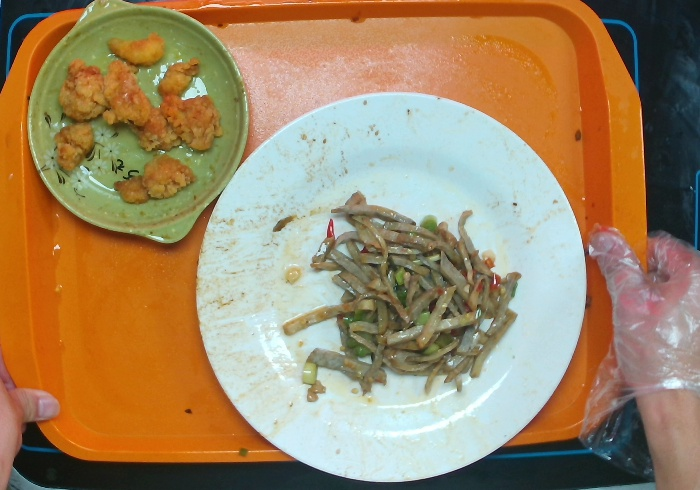NLDX-Da_Yuan_Pan: (192, 88, 590, 489)
NLDX-Lv_Hua_Shuang_Er_Die: (25, 1, 253, 248)
